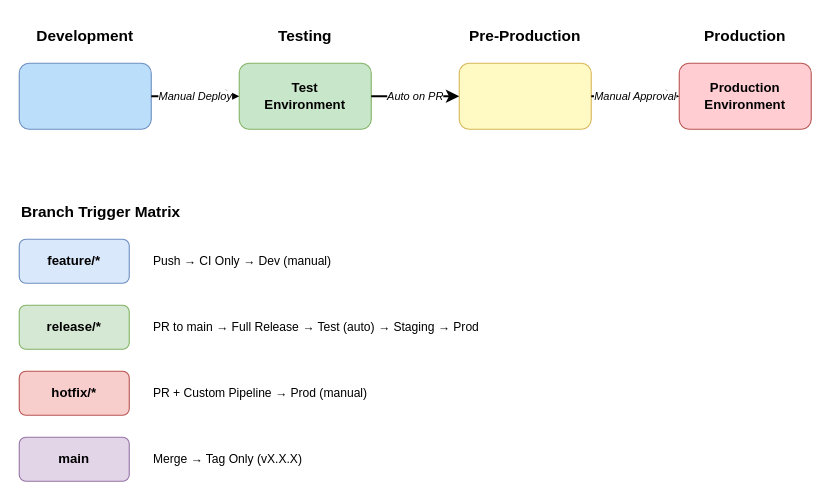
The diagram is 831 pixels wide and 501 high, and some of its shapes have lost their labels. The centre of each missing label's shape, as x and y in pixels:
"Dev Environment" belongs at (84,95).
"Staging/QA Environment" belongs at (524,95).
